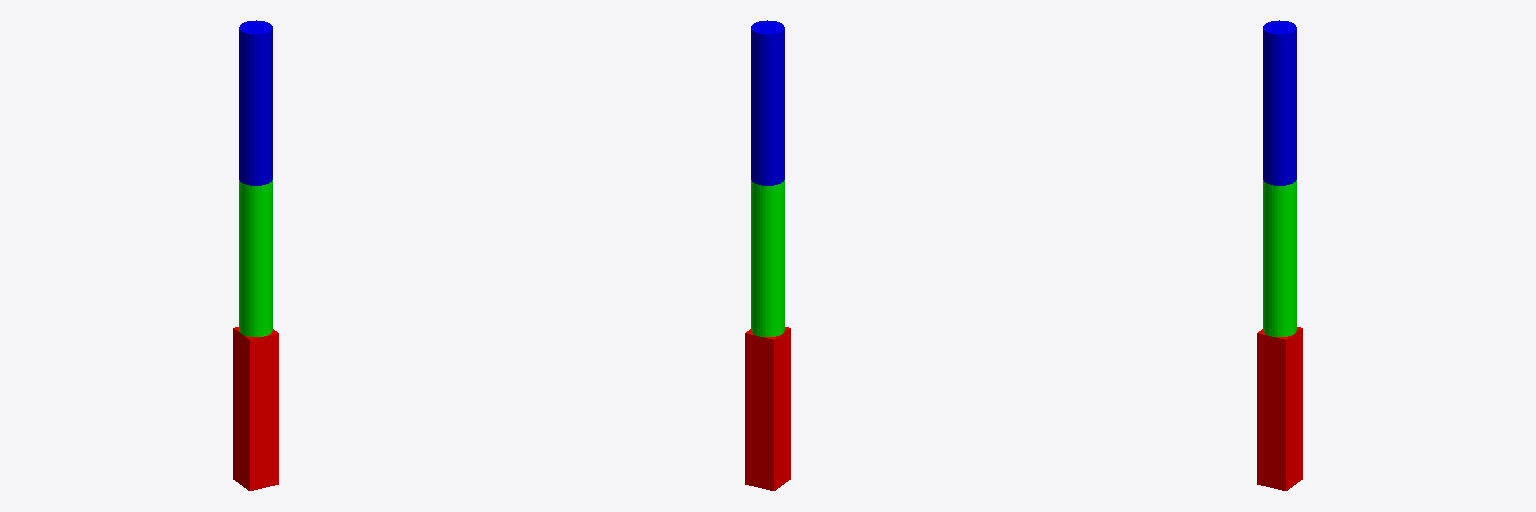
The robot description file, URDF, robot "two_DOF_robot":
<?xml version="1.0"?>
<robot  name="two_DOF_robot">

  <!-- Used for fixing robot to Gazebo 'base_link' -->
  <link name="world"/>

  <joint name="glue_robot_to_world" type="fixed">
    <parent link="world"/>
    <child link="link1"/>
  </joint>

  <!-- Base Link -->
  <link name="link1">
    <collision>
      <origin xyz="0 0 0.5" rpy="0 0 0"/>
      <geometry>
        <box size="0.2 0.2 1"/>
      </geometry>
    </collision>

    <visual>
      <origin xyz="0 0 0.5" rpy="0 0 0"/>
      <geometry>
        <box size="0.2 0.2 1"/>
      </geometry>
      <material name="red">
        <color rgba="1 0 0 1"/>
      </material>
    </visual>

    <inertial>
      <origin xyz="0 0 0.5" rpy="0 0 0"/>
      <mass value="1"/>
      <inertia
        ixx="1.0" ixy="0.0" ixz="0.0"
        iyy="1.0" iyz="0.0"
        izz="1.0"/>
    </inertial>
  </link>

  <!-- First Moveable Link -->
  <link name="link2">
    <collision>
      <origin xyz="0 0 0.5" rpy="0 0 0"/>
      <geometry>
        <cylinder length="1" radius="0.1"/>
      </geometry>
    </collision>

    <visual>
      <origin xyz="0 0 0.5" rpy="0 0 0"/>
      <geometry>
        <cylinder length="1" radius="0.1"/>
      </geometry>
      <material name="green">
        <color rgba="0 1 0 1"/>
      </material>
    </visual>

    <inertial>
      <origin xyz="0 0 0.5" rpy="0 0 0"/>
      <mass value="1"/>
      <inertia
        ixx="0.1" ixy="0.0" ixz="0.0"
        iyy="0.1" iyz="0.0"
        izz="0.005"/>
    </inertial>
  </link>

  <!-- Second Moveable Link -->
  <link name="link3">
    <collision>
      <origin xyz="0 0 0.5" rpy="0 0 0"/>
      <geometry>
        <cylinder length="1" radius="0.1"/>
      </geometry>
    </collision>

    <visual>
      <origin xyz="0 0 0.5" rpy="0 0 0"/>
      <geometry>
        <cylinder length="1" radius="0.1"/>
      </geometry>
      <material name="blue">
        <color rgba="0 0 1 1"/>
      </material>
    </visual>

    <inertial>
      <origin xyz="0 0 0.5" rpy="0 0 0"/>
      <mass value="1"/>
      <inertia
        ixx="0.1" ixy="0.0" ixz="0.0"
        iyy="0.1" iyz="0.0"
        izz="0.005"/>
    </inertial>
  </link>

  <!-- First Joint, along y axis -->
  <joint name="joint1" type="continuous">
    <parent link="link1"/>
    <child link="link2"/>
    <origin xyz="0 0 1" rpy="0 0 0"/>
    <axis xyz="0 1 0"/>
  </joint>

  <!-- Second Joint, along x axis -->
  <joint name="joint2" type="continuous">
    <parent link="link2"/>
    <child link="link3"/>
    <origin xyz="0 0 1" rpy="0 0 0"/>
    <axis xyz="0 1 0"/>
  </joint>

</robot>

--- Facts derived from the render (not from the file) ---
3 views of the same robot in one strip: view 1: azimuth 30°, elevation 25°; view 2: azimuth 150°, elevation 25°; view 3: azimuth 330°, elevation 25° (orthographic).
Robot: two_DOF_robot — 4 links, 3 joints (2 continuous, 1 fixed); root link world; default pose: all joints at 0.
Links seen in each view (by area): view 1: link1, link3, link2; view 2: link1, link3, link2; view 3: link1, link3, link2.
Boxes of the visible links, x1,y1,x2,y2 form: link1: (233, 327, 278, 490); link3: (239, 20, 272, 185); link2: (239, 180, 272, 336); link1: (745, 327, 790, 490); link3: (751, 20, 784, 185); link2: (751, 180, 784, 336); link1: (1257, 327, 1302, 490); link3: (1263, 20, 1296, 185); link2: (1263, 180, 1296, 336).
Bounding box of the posed robot: 0.2 × 0.2 × 3 m (x, y, z).
Geometry: primitives only (box / cylinder / sphere), no mesh files.